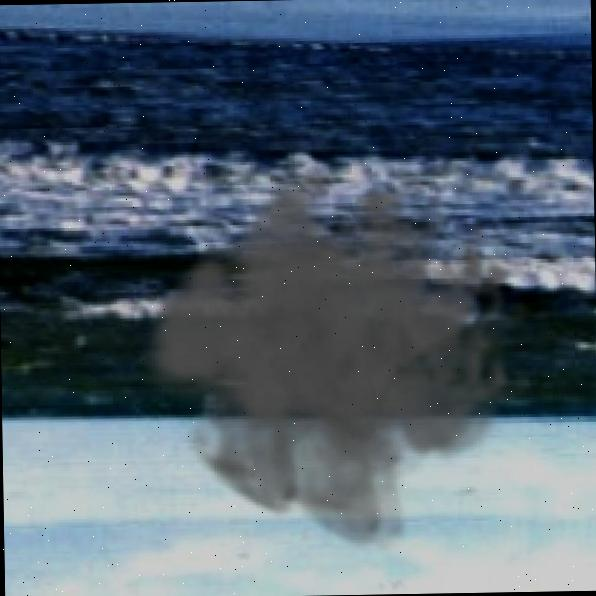smoke: (134, 146, 538, 558)
